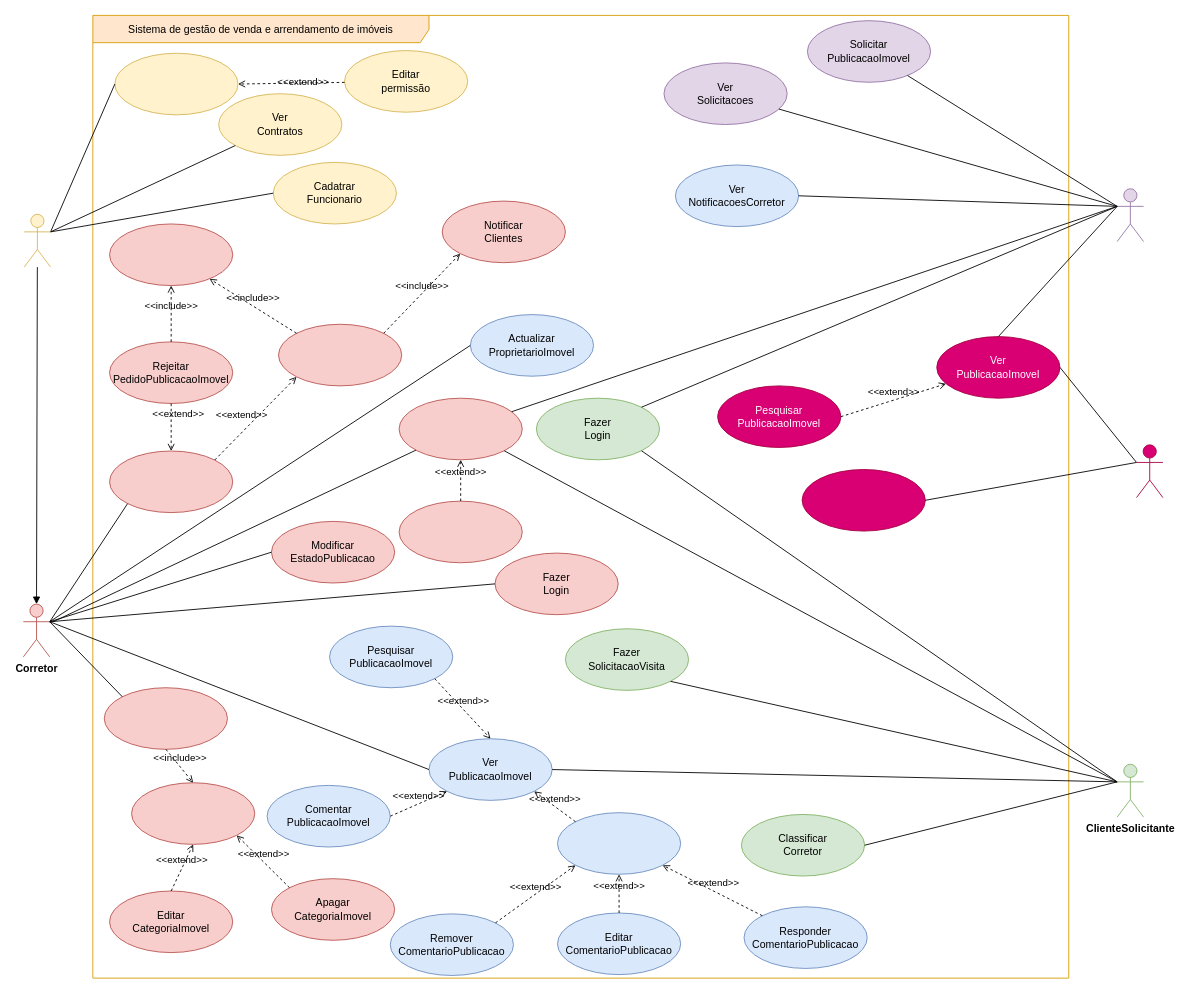
The diagram is 1192 pixels wide and 994 high, and some of its shapes have lost their labels. The box of each missing label's shape, as (x1, y1, x2, y2) in pixels:
Cadastrar CategoriaImovel: (103, 687, 227, 749)
ClienteProprietario: (1116, 188, 1144, 242)
Criar Conta: (801, 469, 925, 531)
Editar Perfil: (398, 500, 522, 563)
Gerente: (23, 213, 51, 267)
Notificar ProprietarioImovel: (109, 223, 233, 286)
Validar PedidoPublicacaoImovel: (278, 323, 402, 386)
Ver CategoriaImovel: (131, 782, 255, 844)
Ver ComentarioPublicacao: (557, 812, 681, 874)
Ver Funcionarios: (114, 52, 238, 115)
Ver PedidoPublicacaoImovel: (109, 450, 233, 513)
Ver Perfil: (398, 397, 522, 460)
Visitante: (1136, 444, 1163, 498)
